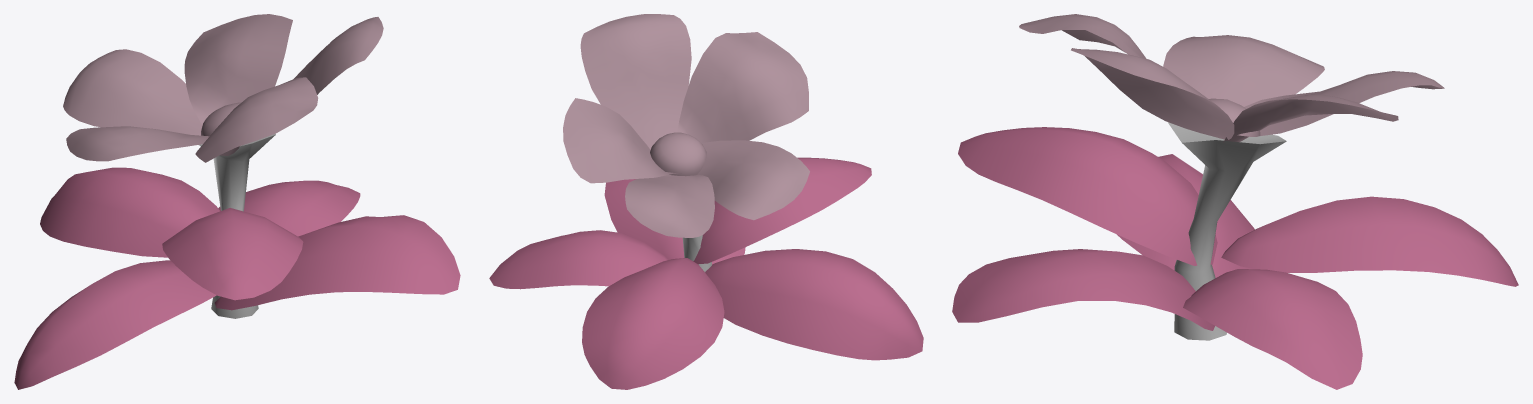
The model's file is FlowerRegina.fbx.
3 renders of one model, left to right at view 1: azimuth 30°, elevation 25°; view 2: azimuth 150°, elevation 25°; view 3: azimuth 270°, elevation 25°, orthographic. The views are drawn at different scales.
Parts seen in each view (by area): view 1: group1; view 2: group1; view 3: group1.
Boxes of the visible parts, x1=… form: group1: x1=14, y1=14, x2=460, y2=389; group1: x1=489, y1=14, x2=923, y2=389; group1: x1=952, y1=14, x2=1518, y2=389.
Size of the model in its own units: 2.29 by 1.52 by 2.31.
